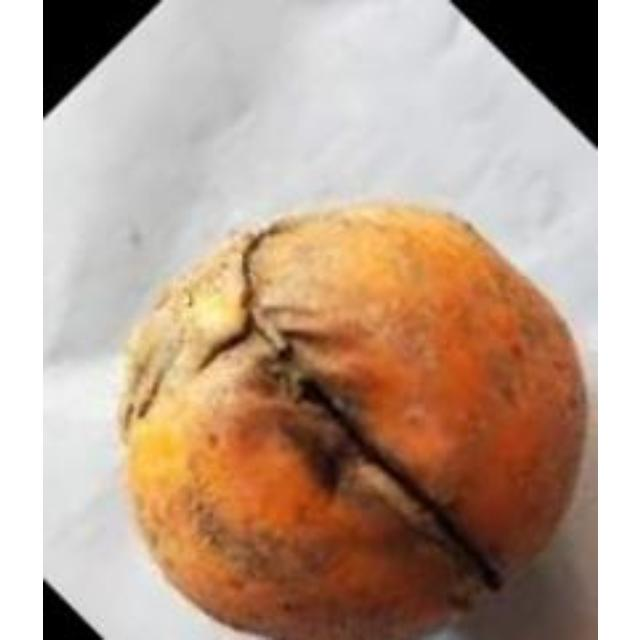damaged: (116, 204, 586, 637)
